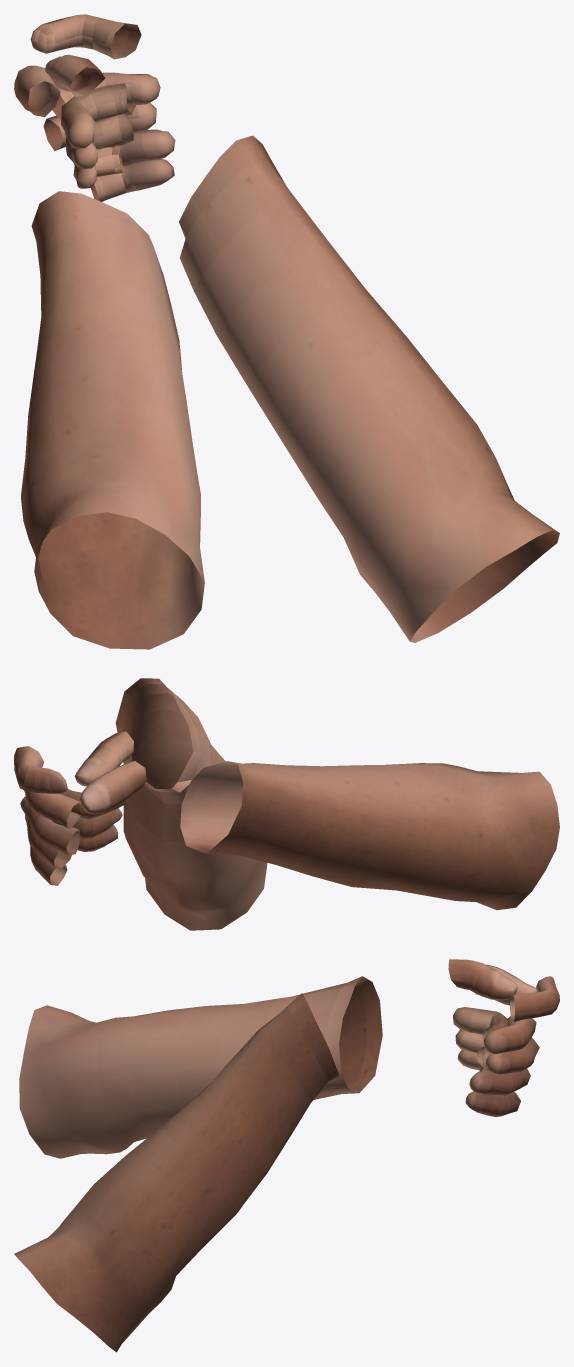
The model's file is Hands.glb.
The picture shows the model from 3 angles, top to bottom: view 1: azimuth 30°, elevation 25°; view 2: azimuth 150°, elevation 25°; view 3: azimuth 270°, elevation 25°; orthographic projection. The views are drawn at different scales.
Parts seen in each view (by area): view 1: Hand; view 2: Hand; view 3: Hand.
Boxes of the visible parts, left/top/right/bottom form: Hand: left=14, top=14, right=559, bottom=649; Hand: left=14, top=678, right=559, bottom=930; Hand: left=14, top=959, right=559, bottom=1352.
Bounding box in the file's own units: 0.9401 × 0.7734 × 1.13.
1 material, 1 textured.
